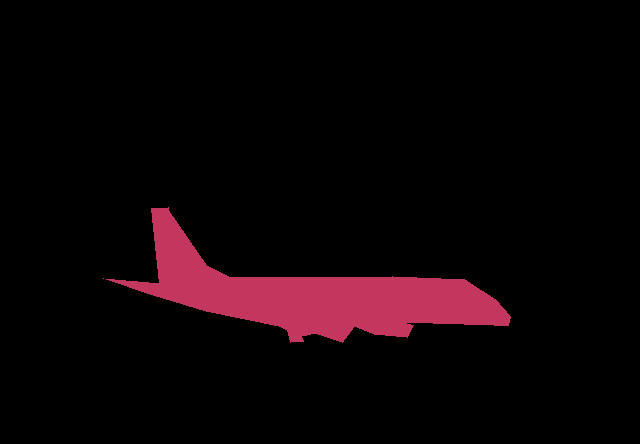Airplane: (103, 207, 511, 343)
